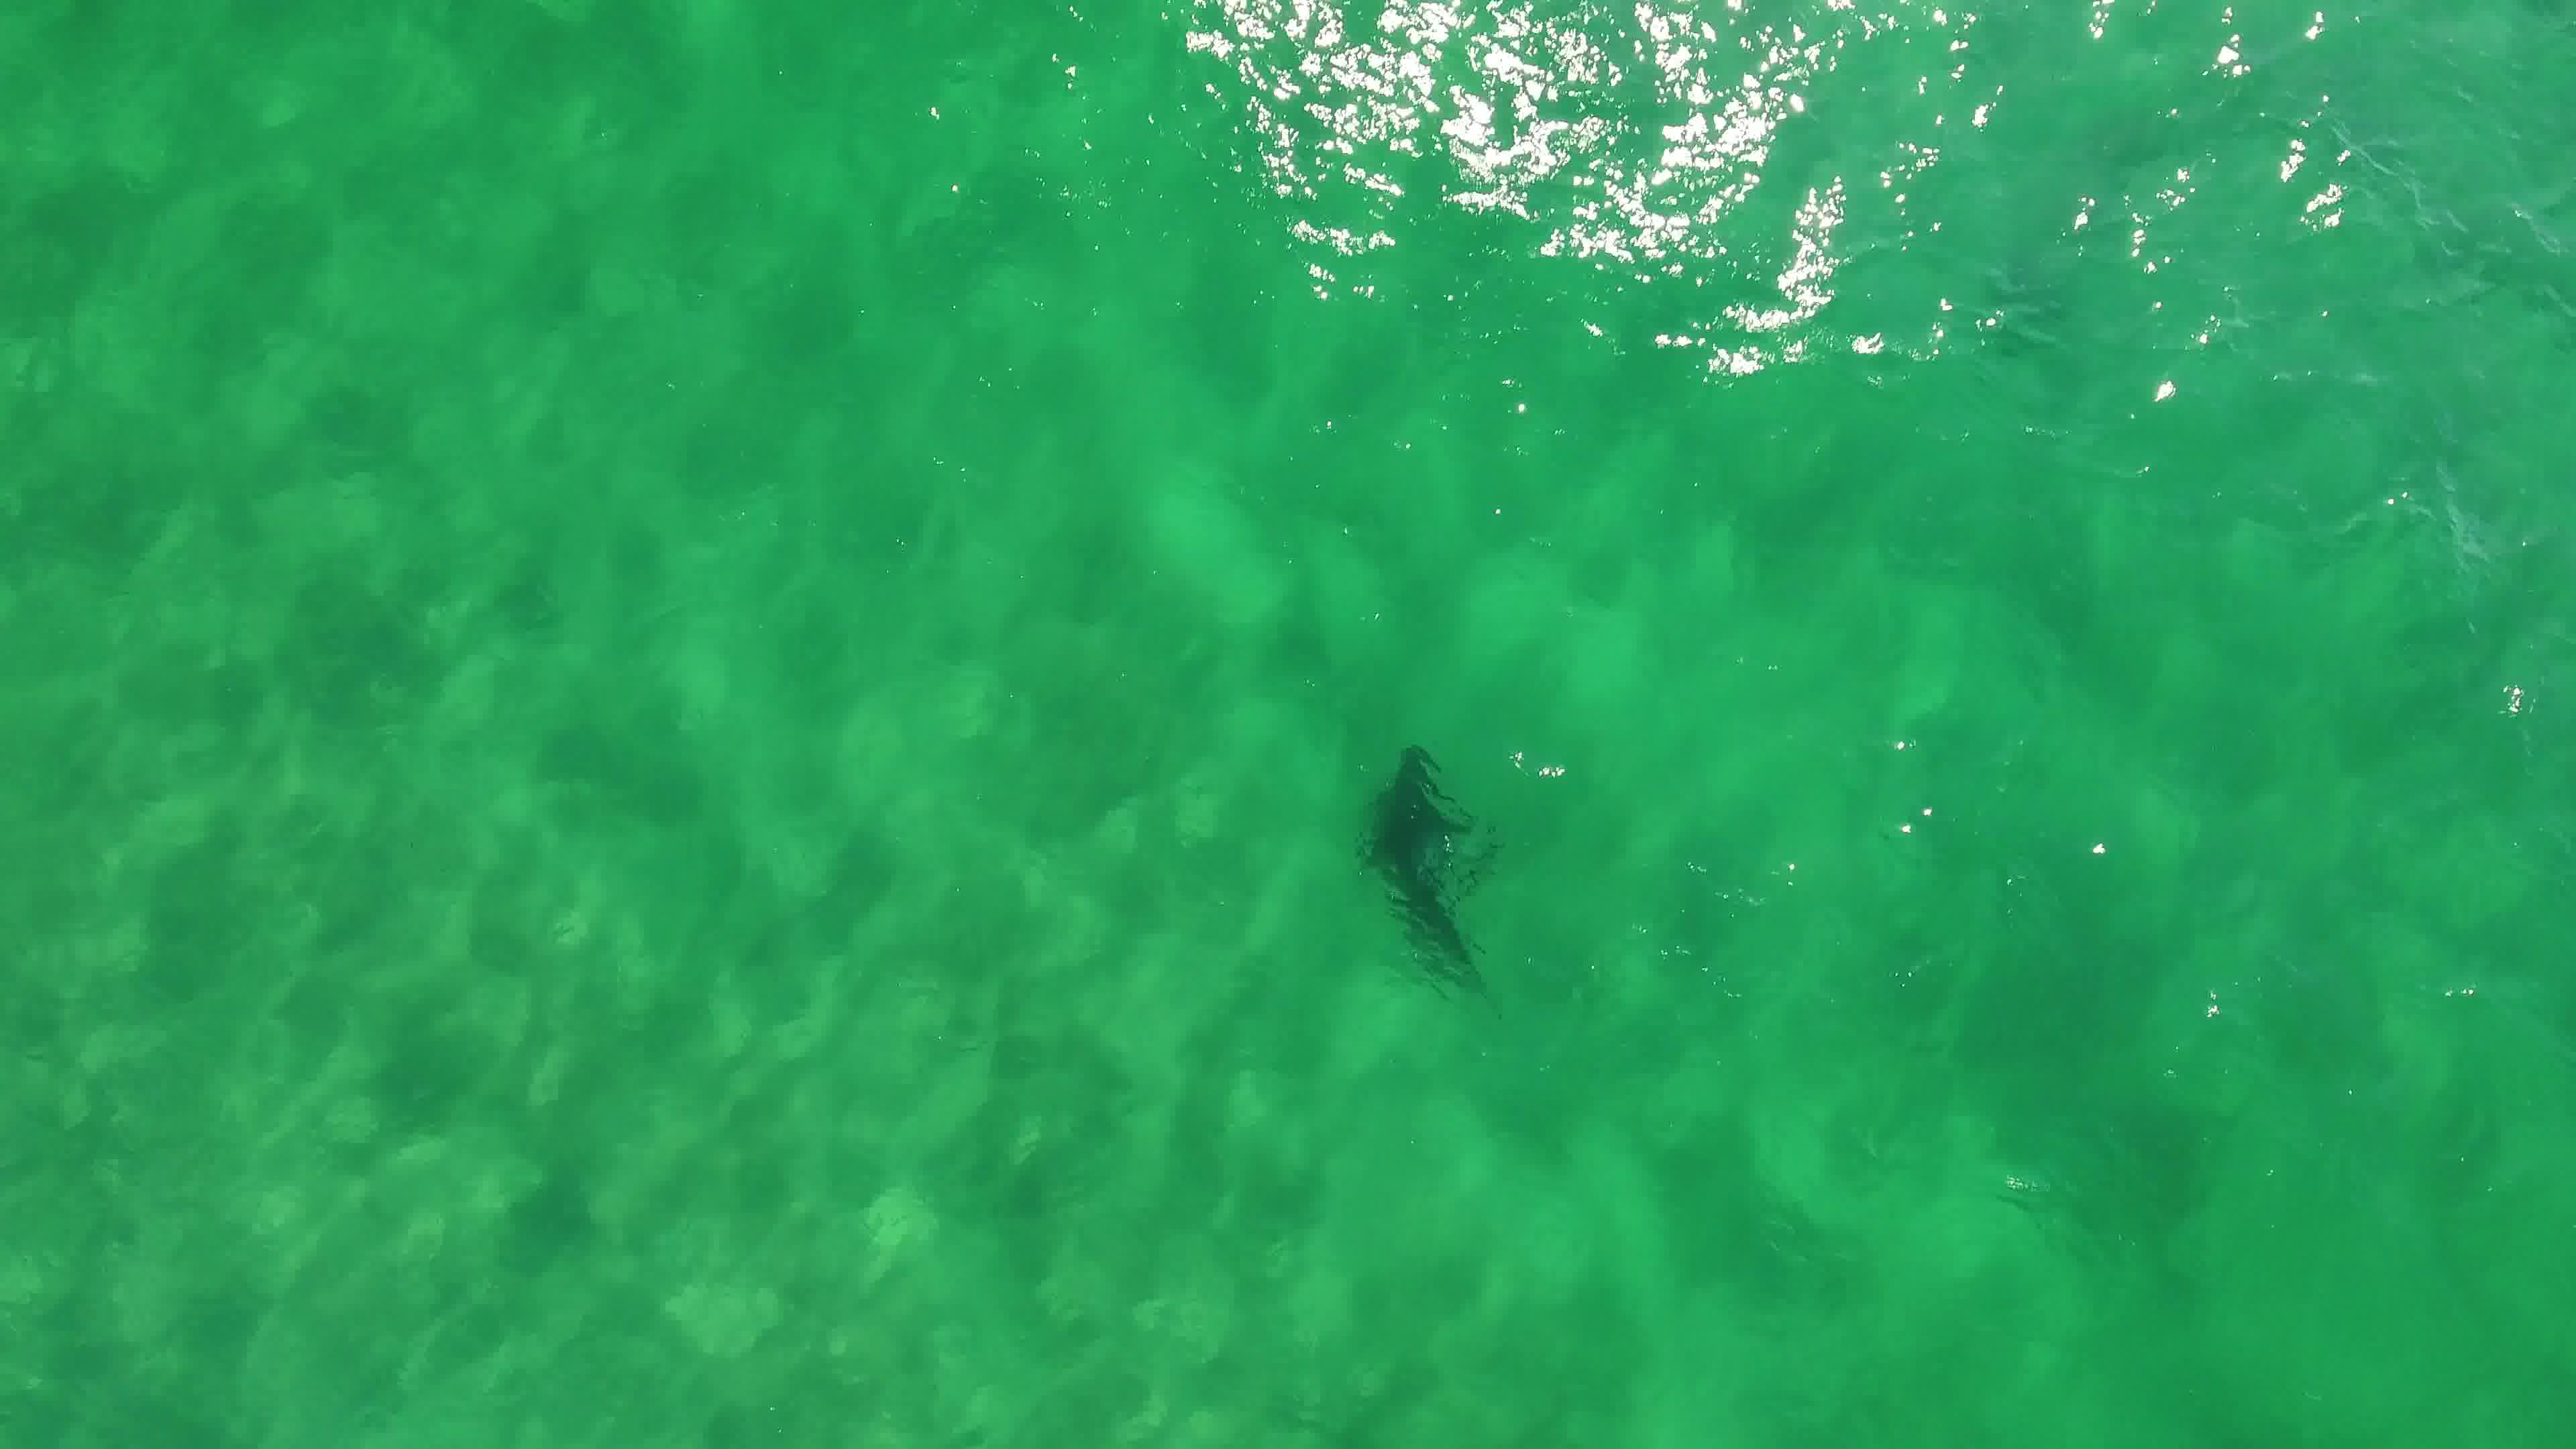shark: (1330, 736, 1499, 1003)
